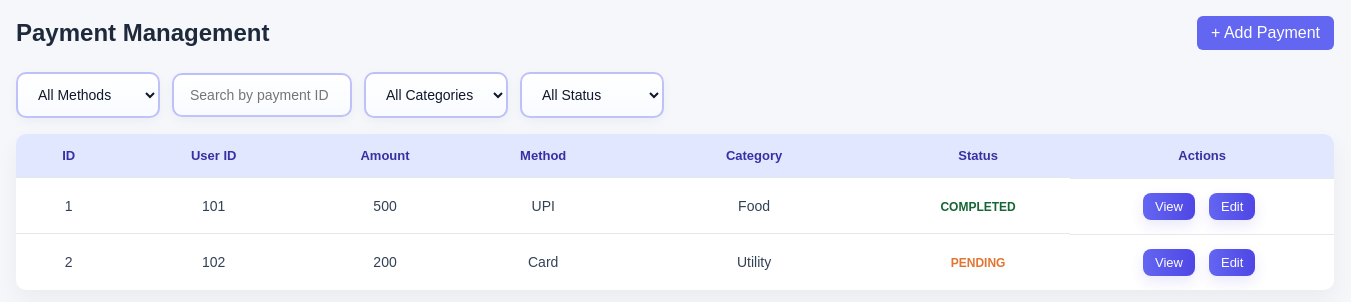
it: PaymentList.vue › enters edit mode when Edit is clicked
Click the button with class "edit-btn" in the row of "101": [1232, 206] box [1209,192,1255,220]
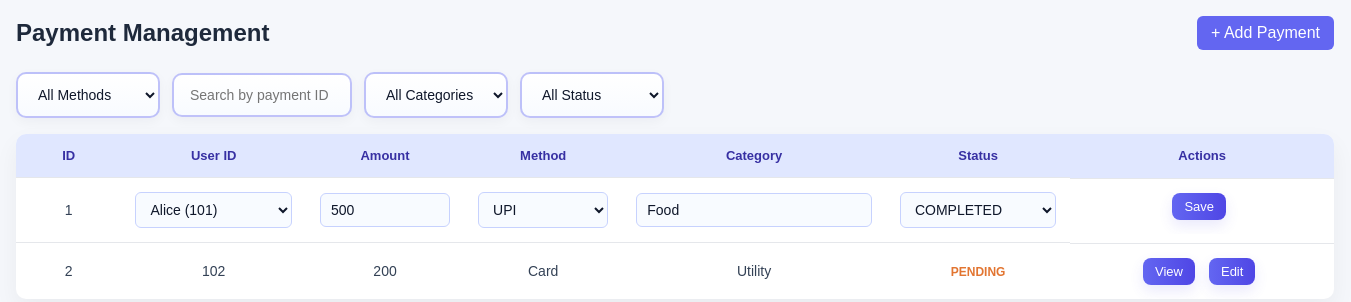
Result: the 1st dropdown with class "table-input" is shown at [135,192,292,228]
